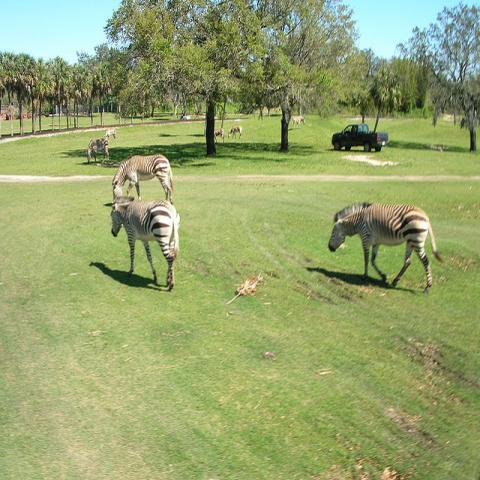truck: (331, 124, 389, 153)
